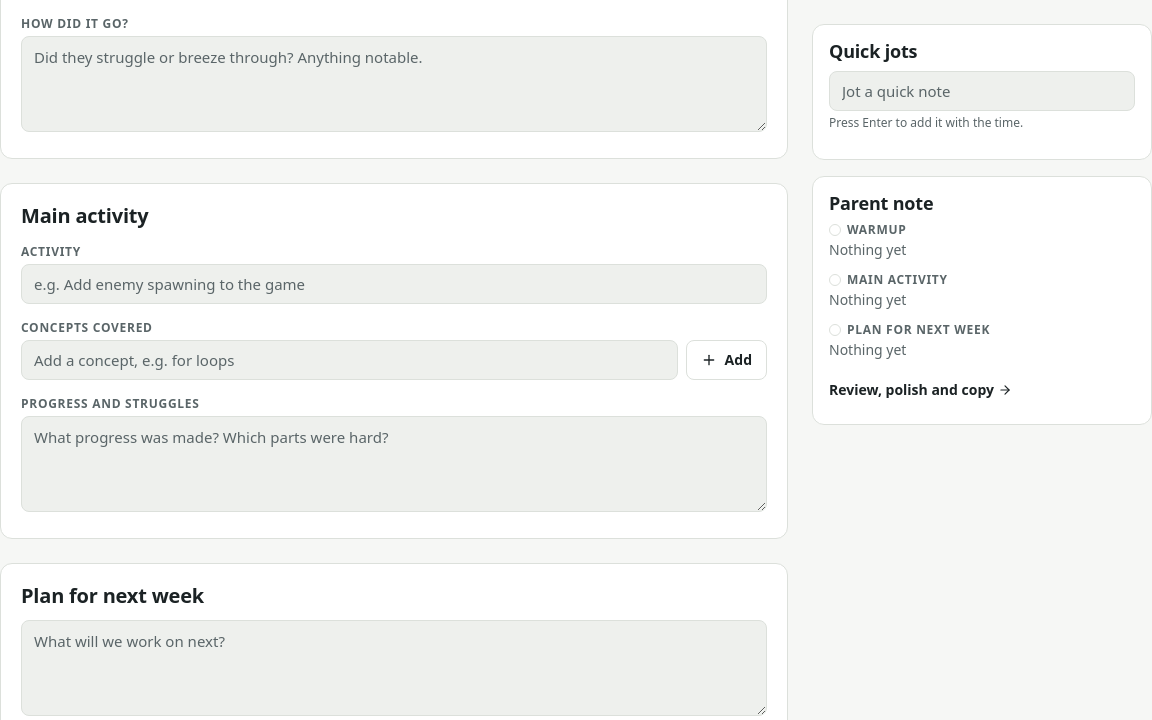
Test: LessonPage › shows the parent note on the lesson page and updates it as main-activity concepts are added
(page scrolled)
Expected: the text "Nothing yet" is shown 3 times, left=829, top=240, right=906, bottom=259; left=829, top=290, right=906, bottom=309; left=829, top=340, right=906, bottom=359
In the field with placeholder "Add a concept, e.g. for loops": (349, 360) left=21, top=340, right=678, bottom=380, type "for loops"
Then press Enter
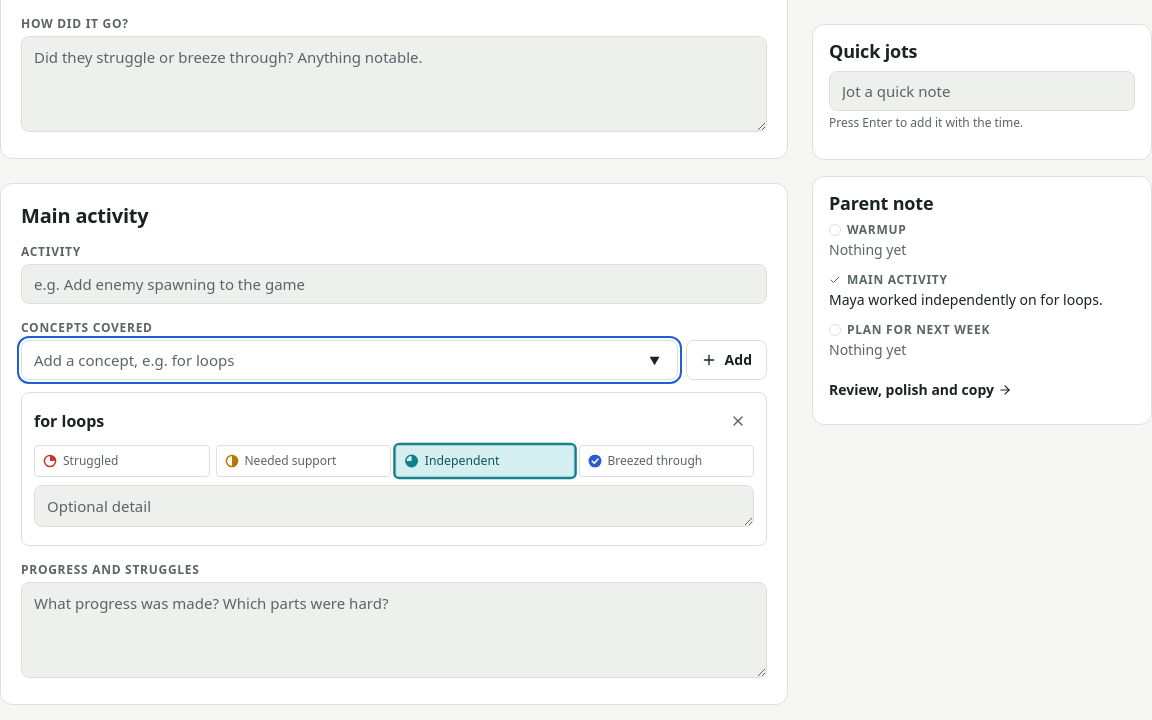
Click the radio button labelled "Needed support": (303, 461) left=216, top=445, right=391, bottom=477
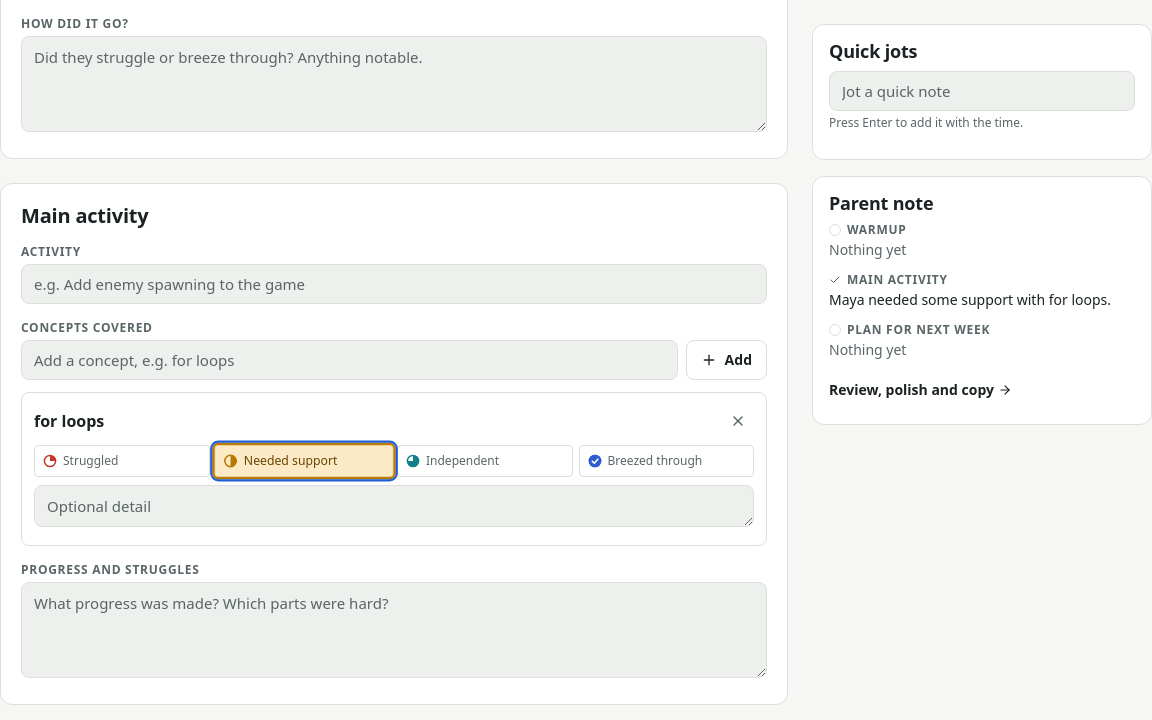
Now the element "Parent note" shows "Maya needed some support with for loops.", box left=829, top=290, right=1111, bottom=309
